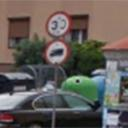speed_limit_30: (46, 10, 74, 40)
